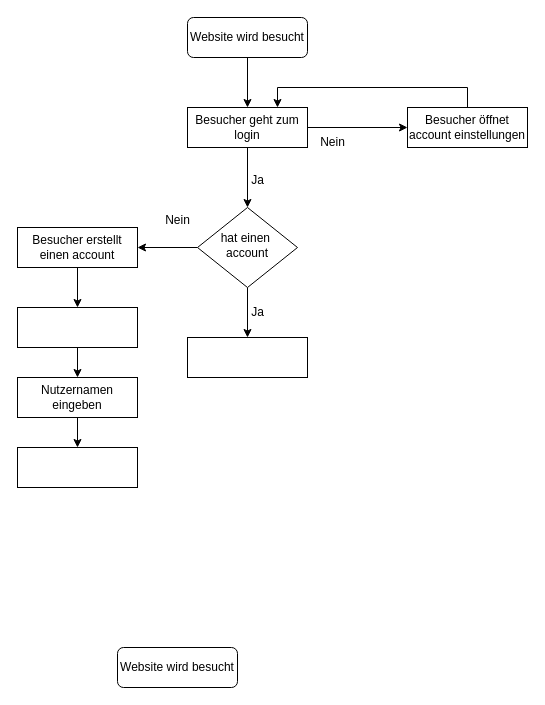
This 545x705 diagram has some shape labels left out. The box of each missing label's shape, as (x1, y1, x2, y2) in pixels:
Besucher loggt sich ein: (186, 336, 308, 378)
Email eingeben: (16, 306, 138, 348)
Passwort 2 mal eingeben: (16, 446, 138, 488)
